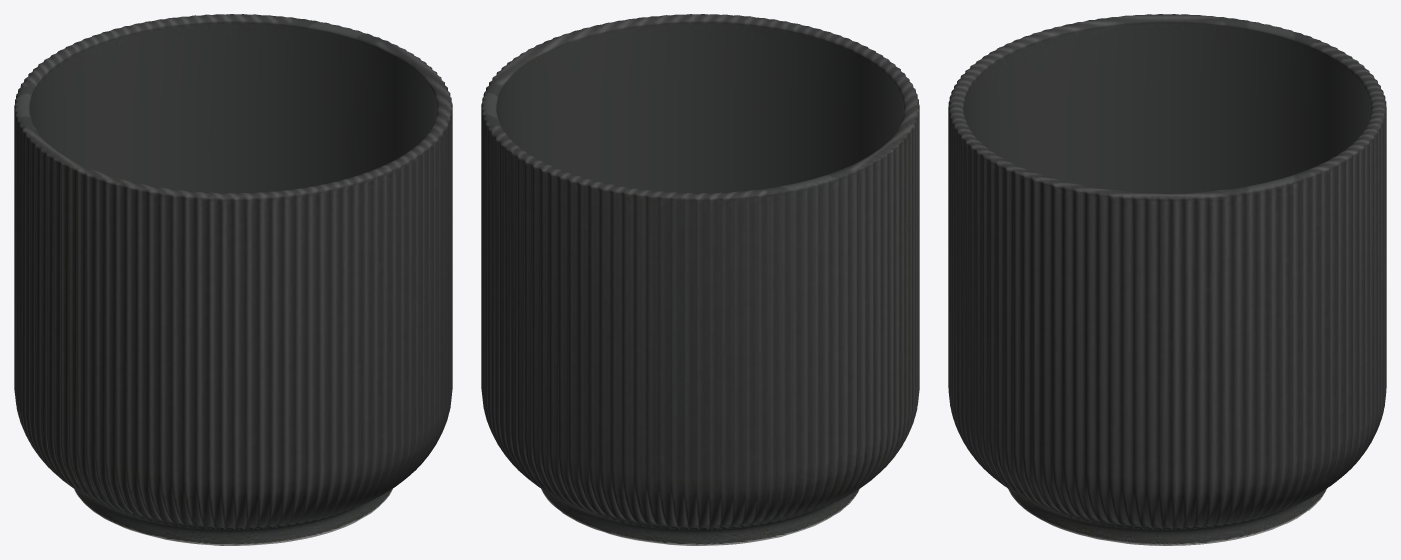
Rendered from gradvis_osonka_doniczki_50494792.glb.
3 renders of one model, left to right at view 1: azimuth 30°, elevation 25°; view 2: azimuth 150°, elevation 25°; view 3: azimuth 270°, elevation 25°, orthographic.
Parts seen in each view (by area): view 1: gradvis_osonka_doniczki_50494792; view 2: gradvis_osonka_doniczki_50494792; view 3: gradvis_osonka_doniczki_50494792.
Boxes of the visible parts, x1,y1,x2,y2 form: gradvis_osonka_doniczki_50494792: (14, 14, 452, 545); gradvis_osonka_doniczki_50494792: (481, 14, 919, 545); gradvis_osonka_doniczki_50494792: (948, 14, 1386, 545).
Size of the model in its own units: 0.1336 by 0.1255 by 0.1336.
1 material, 1 textured.
